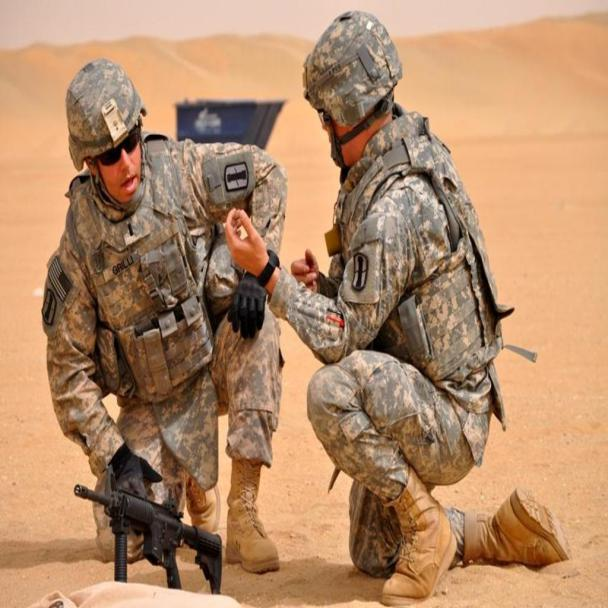Hand: (69, 449, 242, 607)
